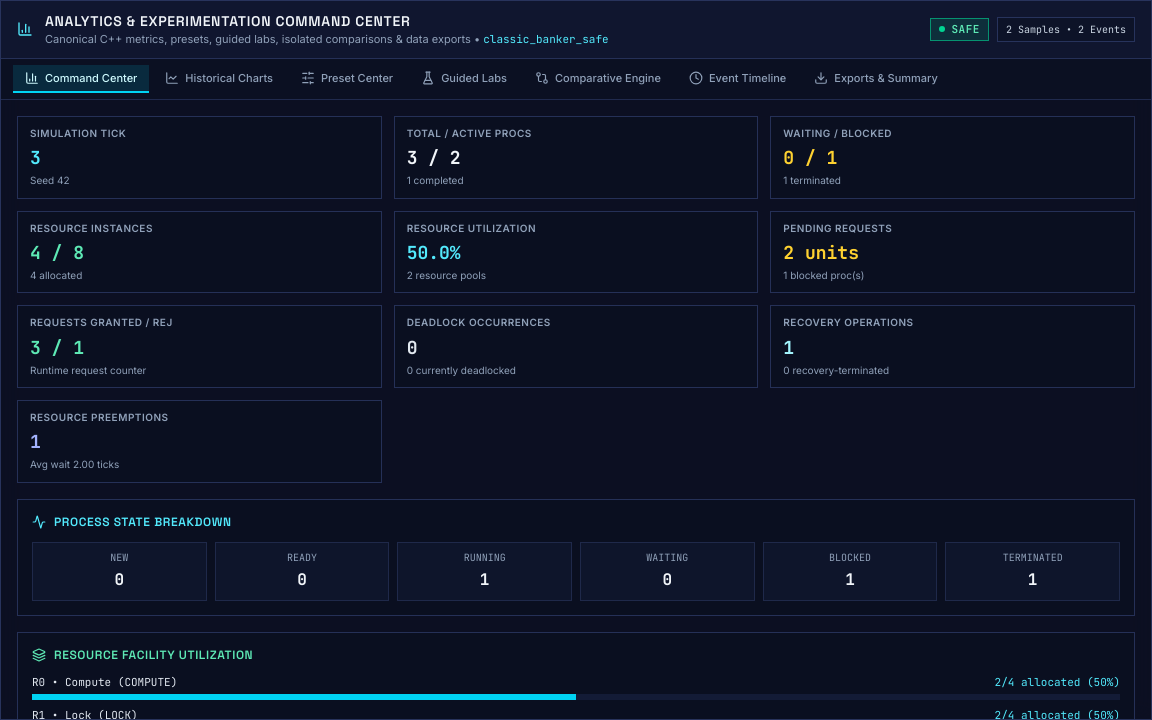
Test: Phase 7 Analytics Command Center, Presets, Comparisons & Exports › discloses bounded telemetry retention window when recorded counts exceed retained buffer
Step 1. Click the tab "Historical Charts" → x=219, y=79, box [153,64,285,93]
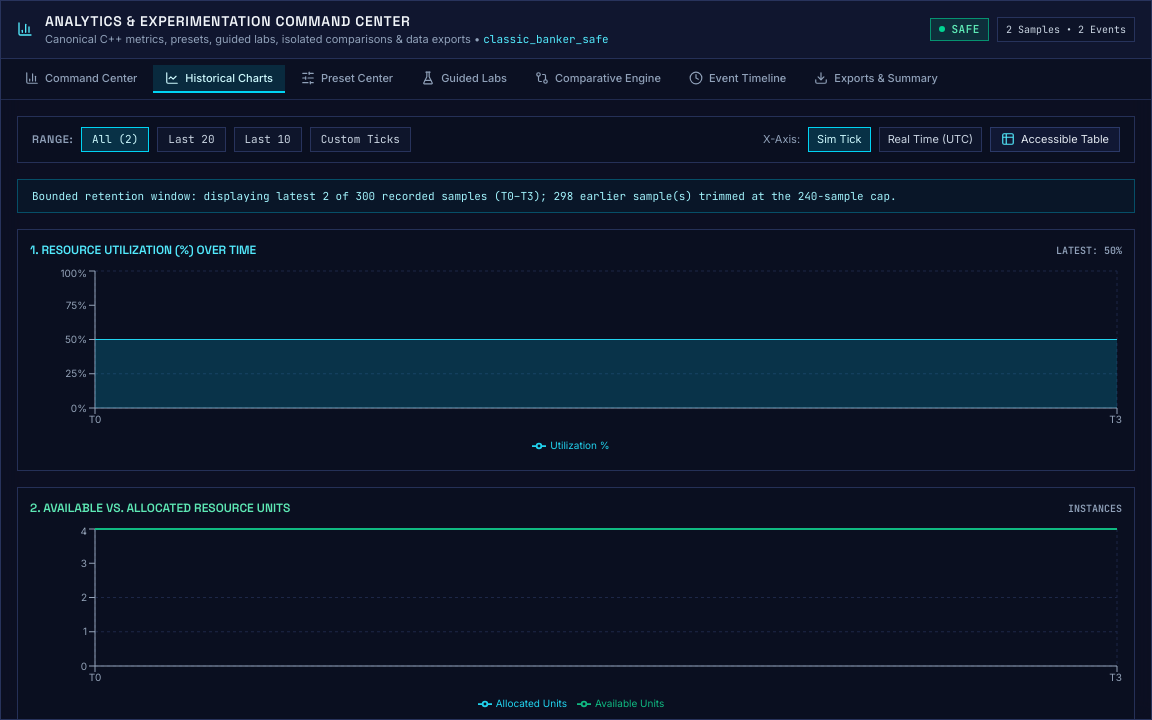
expect the text "Bounded retention window: displaying latest 2 of 300 recorded samples" is shown: met, box [17,179,1135,213]
Step 2. Click the tab "Event Timeline" → x=738, y=79, box [677,64,798,93]
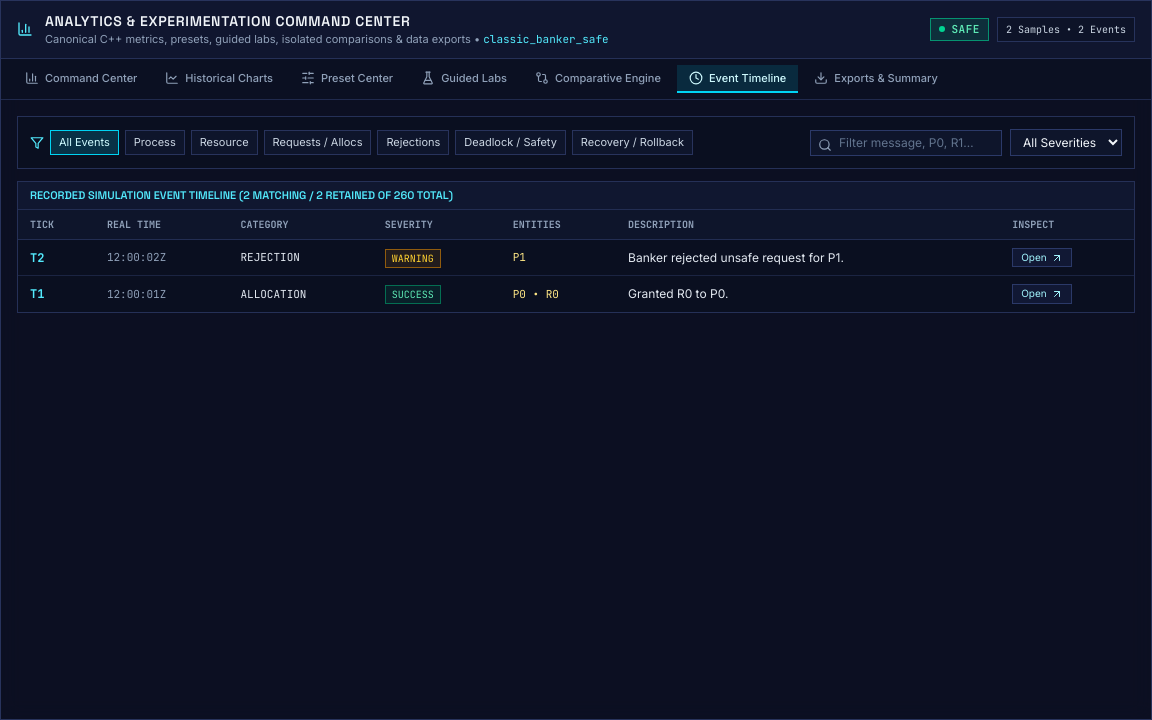
expect the text "2 retained of 260 total" is shown: met, box [18,182,1134,210]
Step 3. Click the tab "Exports & Summary" → x=876, y=79, box [802,64,950,93]
(page scrolled)
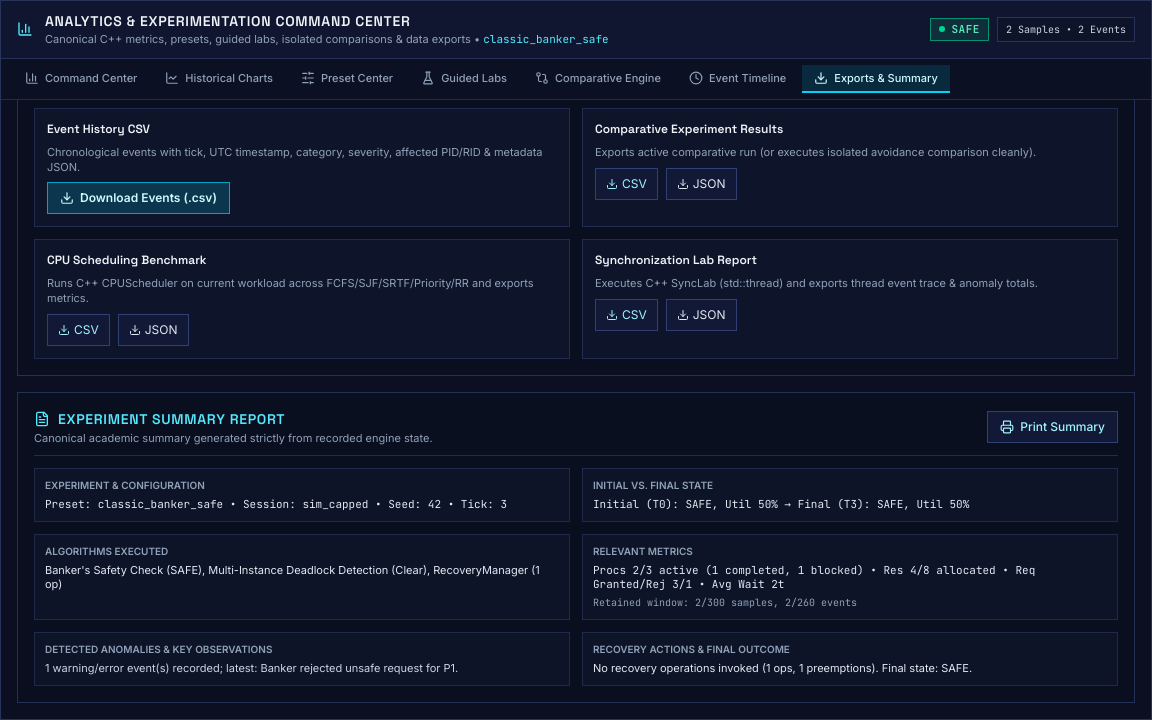
expect the text "Retained window: 2/300 samples, 2/260 events" is shown: met, box [593,596,857,609]
